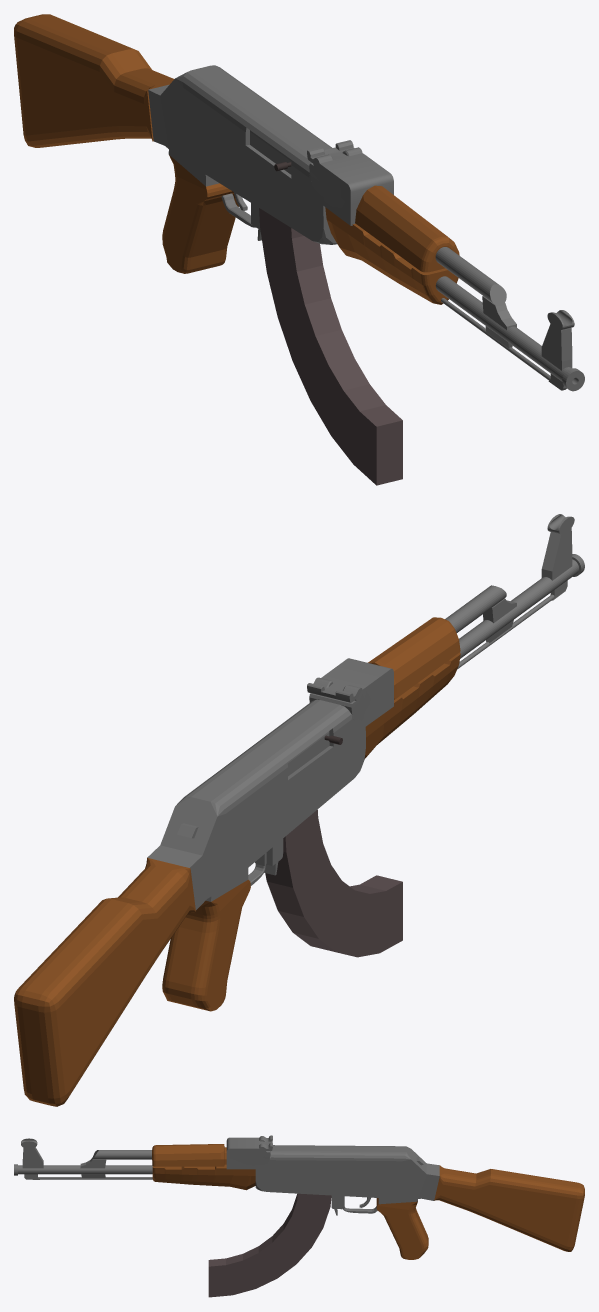
Rendered from Uncommon.fbx.
3 renders of one model, top to bottom at view 1: azimuth 30°, elevation 25°; view 2: azimuth 150°, elevation 25°; view 3: azimuth 270°, elevation 25°, orthographic. The views are drawn at different scales.
Visible parts, largest first — view 1: Body.002, Uncommon, Stock, Grip, Top Front Grip, Rear Sight Thingy, Bottom Handguard thing, Bottom Barrel, Top Barrel, Front Sight, Top To Bottom to Bottomer Connector, Bottomer Barrel; view 2: Body.002, Stock, Uncommon, Grip, Rear Sight Thingy, Top Front Grip, Bottom Handguard thing, Bottom Barrel, Front Sight, Top Barrel; view 3: Body.002, Stock, Uncommon, Bottom Handguard thing, Grip, Top Front Grip, Rear Sight Thingy, Bottom Barrel, Top Barrel, Front Sight, Top To Bottom to Bottomer Connector, Bottomer Barrel.
Part boxes in pixels (x1=…): Body.002: x1=148, y1=65, x2=337, y2=244; Uncommon: x1=259, y1=208, x2=402, y2=485; Stock: x1=14, y1=14, x2=174, y2=147; Grip: x1=162, y1=155, x2=238, y2=273; Top Front Grip: x1=355, y1=185, x2=459, y2=272; Rear Sight Thingy: x1=307, y1=140, x2=393, y2=225; Bottom Handguard thing: x1=325, y1=207, x2=458, y2=304; Bottom Barrel: x1=435, y1=276, x2=584, y2=391; Top Barrel: x1=435, y1=247, x2=506, y2=305; Front Sight: x1=541, y1=324, x2=572, y2=390; Top To Bottom to Bottomer Connector: x1=482, y1=296, x2=516, y2=348; Bottomer Barrel: x1=441, y1=298, x2=550, y2=380; Body.002: x1=147, y1=699, x2=365, y2=909; Stock: x1=14, y1=857, x2=195, y2=1106; Uncommon: x1=265, y1=810, x2=402, y2=957; Grip: x1=162, y1=879, x2=250, y2=1011; Rear Sight Thingy: x1=307, y1=658, x2=393, y2=726; Top Front Grip: x1=368, y1=617, x2=460, y2=699; Bottom Handguard thing: x1=364, y1=652, x2=460, y2=758; Bottom Barrel: x1=459, y1=554, x2=584, y2=658; Front Sight: x1=541, y1=528, x2=572, y2=600; Top Barrel: x1=445, y1=585, x2=506, y2=632; Body.002: x1=255, y1=1145, x2=439, y2=1215; Stock: x1=434, y1=1165, x2=584, y2=1251; Uncommon: x1=208, y1=1193, x2=331, y2=1297; Bottom Handguard thing: x1=152, y1=1164, x2=255, y2=1190; Grip: x1=376, y1=1198, x2=428, y2=1259; Top Front Grip: x1=152, y1=1144, x2=226, y2=1166; Rear Sight Thingy: x1=226, y1=1135, x2=272, y2=1169; Bottom Barrel: x1=14, y1=1164, x2=152, y2=1175; Top Barrel: x1=92, y1=1150, x2=151, y2=1159; Front Sight: x1=22, y1=1147, x2=43, y2=1179; Top To Bottom to Bottomer Connector: x1=80, y1=1158, x2=106, y2=1177; Bottomer Barrel: x1=38, y1=1177, x2=152, y2=1179.
Size of the model in its own units: 26.34 by 137 by 459.
